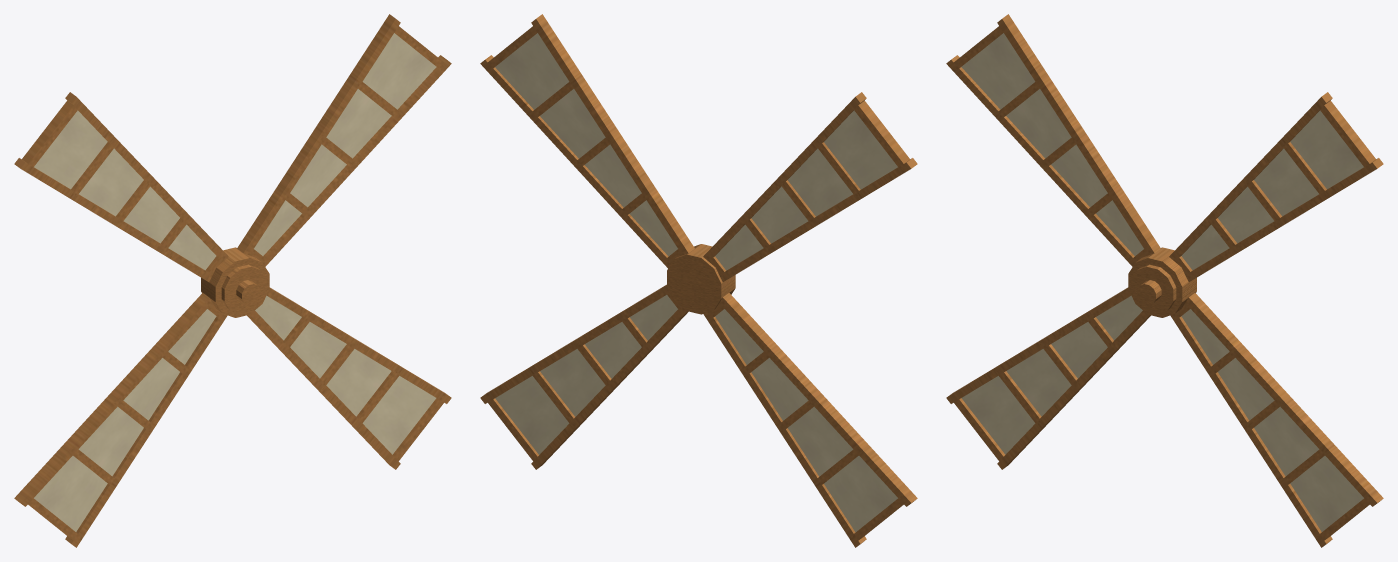
Rendered from windmill_sails.glb.
3 views of the same model, side by side, from view 1: azimuth 30°, elevation 25°; view 2: azimuth 150°, elevation 25°; view 3: azimuth 330°, elevation 25° (orthographic).
Parts seen in each view (by area): view 1: sails; view 2: sails; view 3: sails.
Part boxes in pixels (x1,y1,x2,y2): sails: (14, 14, 451, 547); sails: (480, 14, 917, 547); sails: (946, 14, 1383, 547).
Bounding box in the file's own units: 77.02 × 77.02 × 7.1.
Materials: 1 (1 with a texture image).
